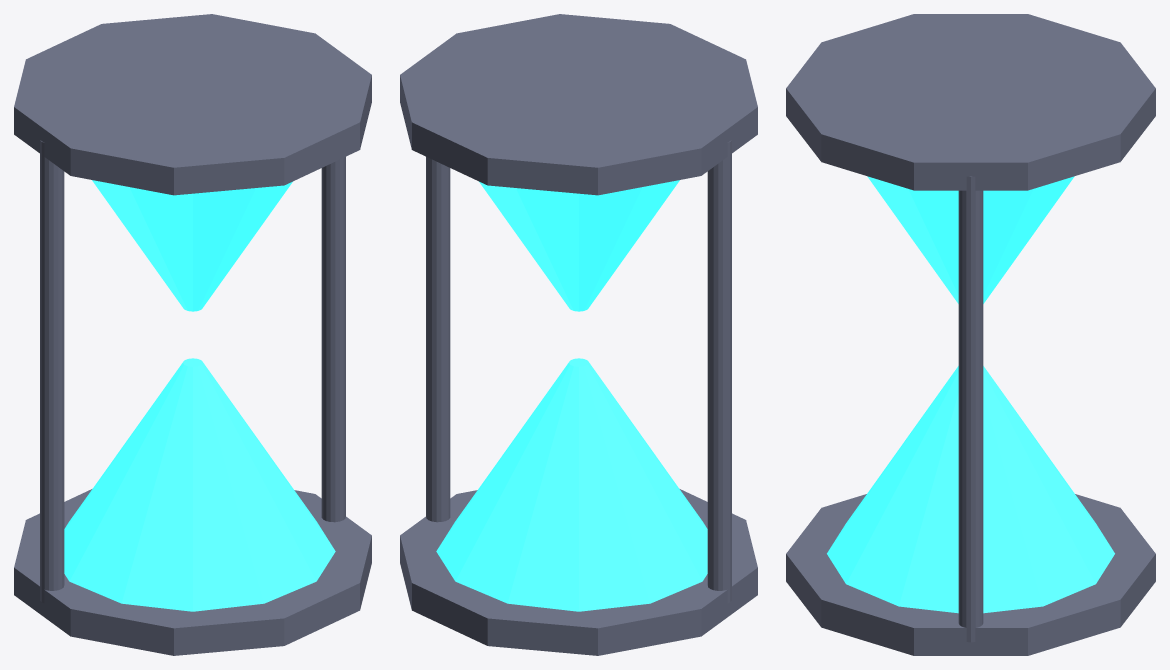
The model's file is stillwater-hourglass.glb.
3 renders of one model, left to right at view 1: azimuth 30°, elevation 25°; view 2: azimuth 150°, elevation 25°; view 3: azimuth 270°, elevation 25°, orthographic.
Parts seen in each view (by area): view 1: hourglass-cap-top, hourglass-bulb-lower, hourglass-cap-bottom, hourglass-bulb-upper, hourglass-post-1, hourglass-post-0; view 2: hourglass-cap-top, hourglass-bulb-lower, hourglass-cap-bottom, hourglass-bulb-upper, hourglass-post-1, hourglass-post-0; view 3: hourglass-cap-top, hourglass-bulb-lower, hourglass-cap-bottom, hourglass-post-0, hourglass-bulb-upper.
Boxes of the visible parts, x1,y1,x2,y2 form: hourglass-cap-top: (14,14,371,195); hourglass-bulb-lower: (64,358,335,611); hourglass-cap-bottom: (14,489,371,655); hourglass-bulb-upper: (92,180,292,311); hourglass-post-1: (40,140,64,602); hourglass-post-0: (321,157,345,522); hourglass-cap-top: (400,14,757,195); hourglass-bulb-lower: (436,358,707,611); hourglass-cap-bottom: (400,489,757,655); hourglass-bulb-upper: (479,180,679,311); hourglass-post-1: (707,140,731,602); hourglass-post-0: (426,157,450,522); hourglass-cap-top: (786,14,1155,190); hourglass-bulb-lower: (827,366,1114,613); hourglass-cap-bottom: (786,494,1155,655); hourglass-post-0: (958,176,983,642); hourglass-bulb-upper: (867,176,1074,303).
Bounding box in the file's own units: 0.344 × 0.53 × 0.36.
